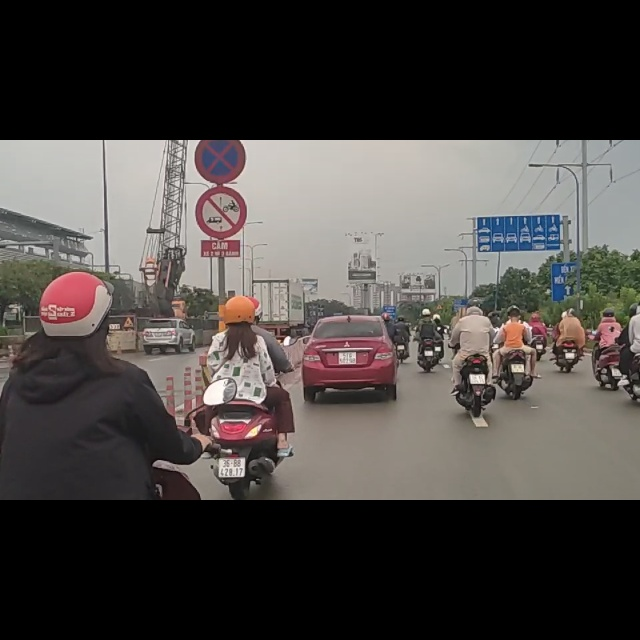bien_chi_dan: (196, 81, 246, 175), (194, 1, 246, 76)
